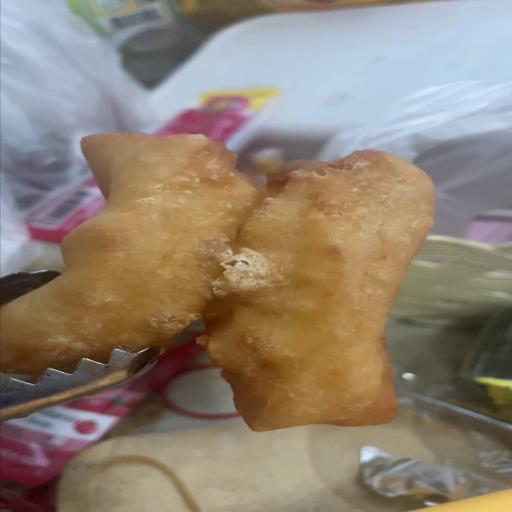street_golden_defect: (0, 134, 432, 432)
